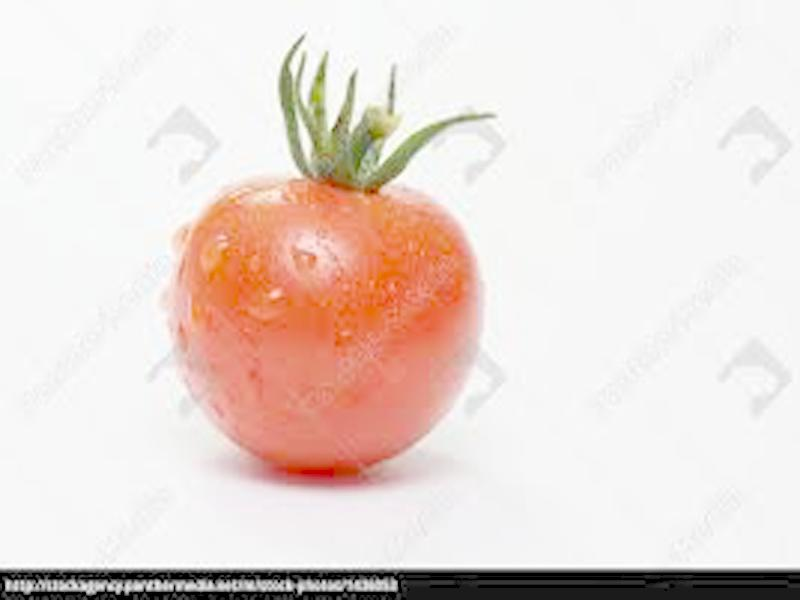Tomato: (176, 179, 484, 476)
